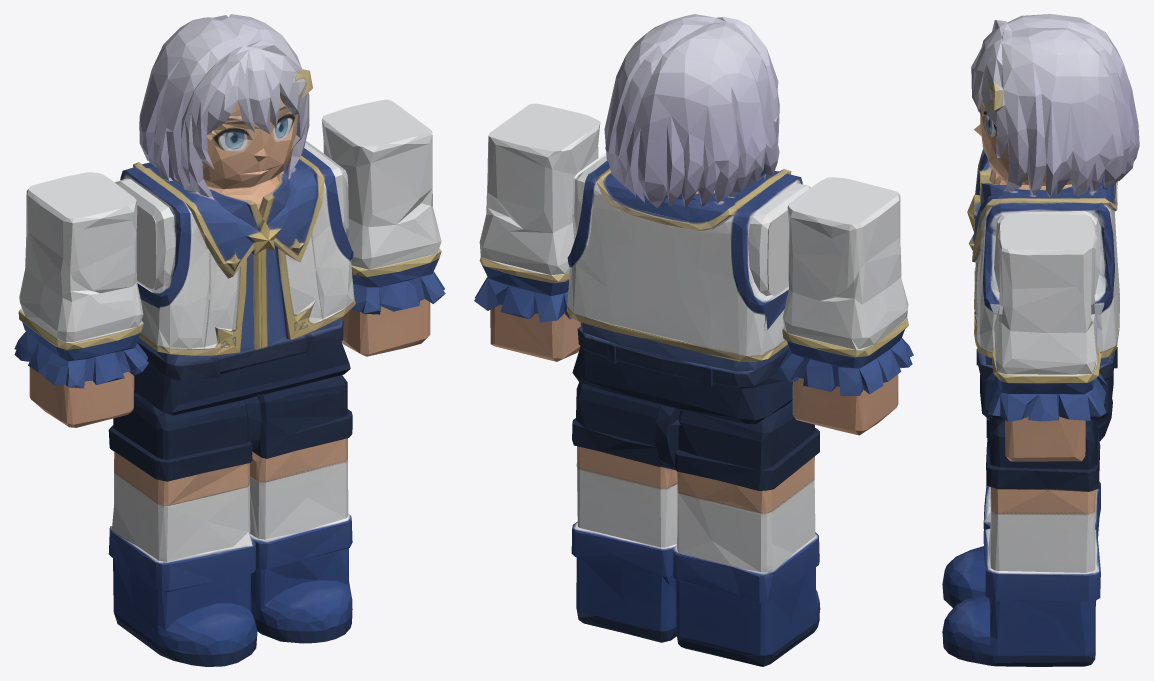
File: Lina_R6_Auto.fbx
3 renders of one model, left to right at view 1: azimuth 30°, elevation 25°; view 2: azimuth 150°, elevation 25°; view 3: azimuth 270°, elevation 25°, orthographic.
Parts seen in each view (by area): view 1: Torso, RightLeg, RightArm, Head, LeftLeg, LeftArm; view 2: Torso, RightLeg, RightArm, Head, LeftArm, LeftLeg; view 3: LeftLeg, LeftArm, Head, Torso, RightLeg.
Part boxes in pixels (x1,y1,x2,y2): Torso: (115,141,355,433); RightLeg: (108,410,257,666); RightArm: (14,172,148,427); Head: (139,14,312,187); LeftLeg: (250,387,352,643); LeftArm: (321,99,445,356); Torso: (566,153,810,440); RightLeg: (661,419,820,666); RightArm: (777,177,913,435); Head: (604,14,779,198); LeftArm: (474,103,600,361); LeftLeg: (571,392,677,642); LeftLeg: (942,398,1112,666); LeftArm: (985,214,1106,461); Head: (971,14,1139,195); Torso: (967,149,1132,442); RightLeg: (942,400,1112,607).
Size of the model in its own units: 3.89 by 5.55 by 1.66.
1 material, 1 textured.
